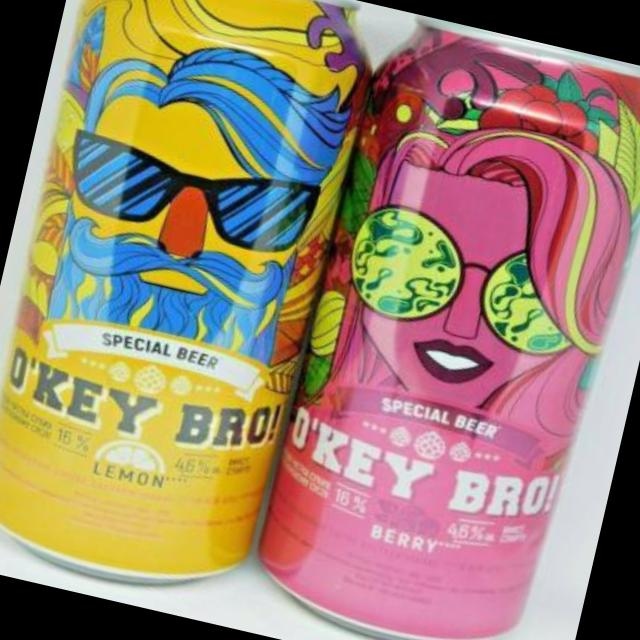metal: (259, 18, 640, 638), (0, 0, 366, 576)
